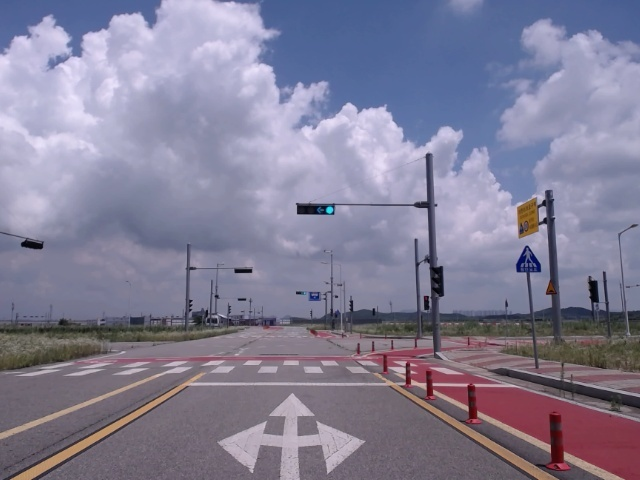all_green_4: (296, 201, 338, 216)
